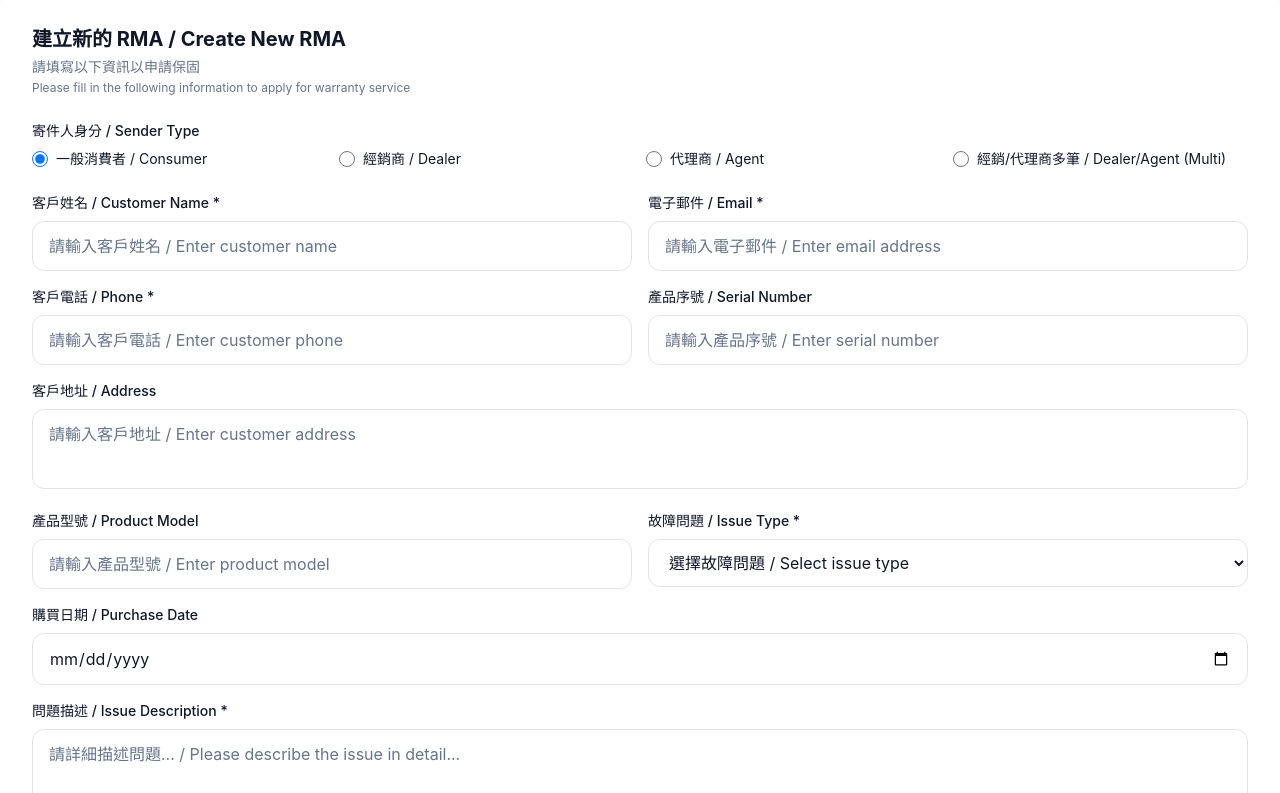
it: RmaForm — 寄件人身分切換 › 切換到「經銷/代理商多筆」後按鈕文字應變為「預覽」
Step 1. Click the radio button labelled "經銷/代理商多筆 / Dealer/Agent (Multi)" → (961, 159), box [953,151,969,167]
(page scrolled)
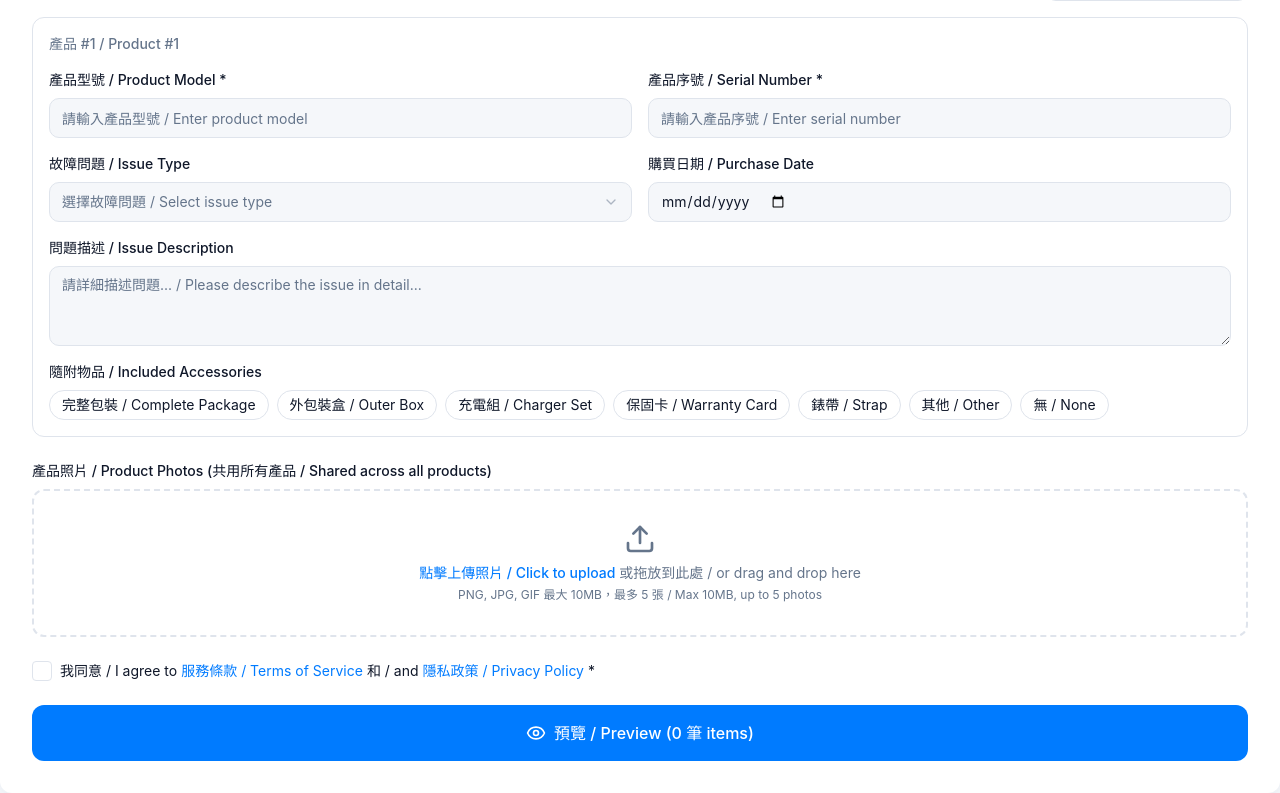
Now the button "預覽 / Preview (0 筆 items)" is shown, box [32,705,1248,761]
